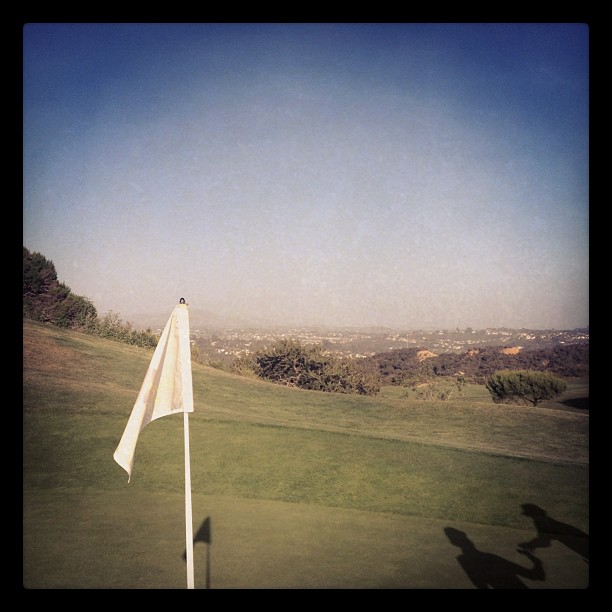flag: (114, 295, 217, 485)
grass: (38, 329, 588, 577)
sky: (22, 15, 603, 330)
tree: (12, 244, 104, 328), (260, 341, 382, 402), (480, 362, 577, 417)
